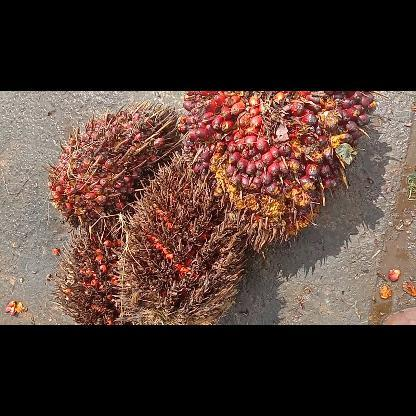TBS masak: (178, 91, 376, 256), (42, 99, 186, 239)
Terlalu masak: (108, 150, 247, 324), (48, 226, 126, 324)
